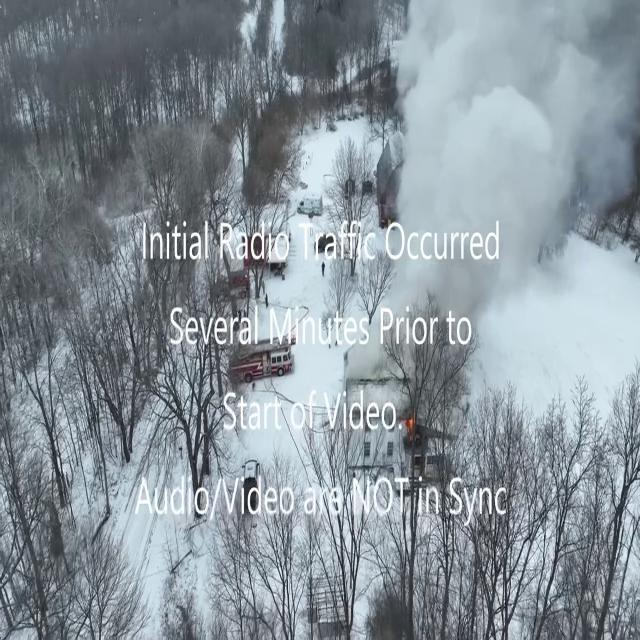Smoke: (388, 0, 640, 500)
